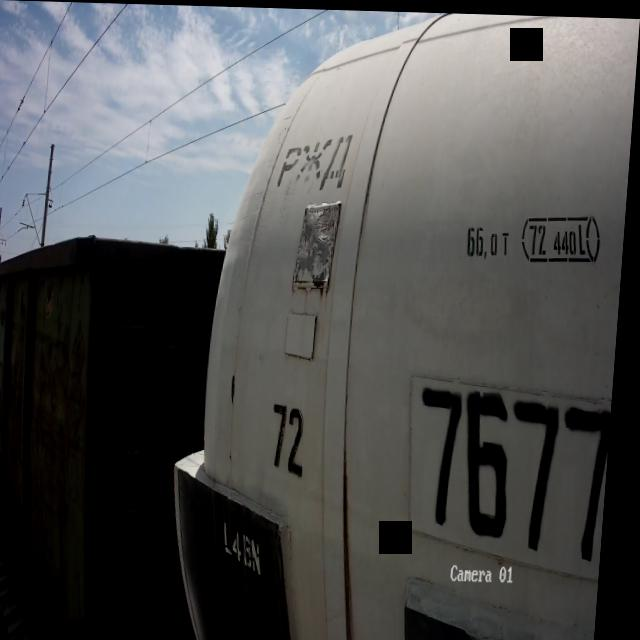gondola: (0, 218, 234, 640)
tank: (165, 5, 640, 640)
